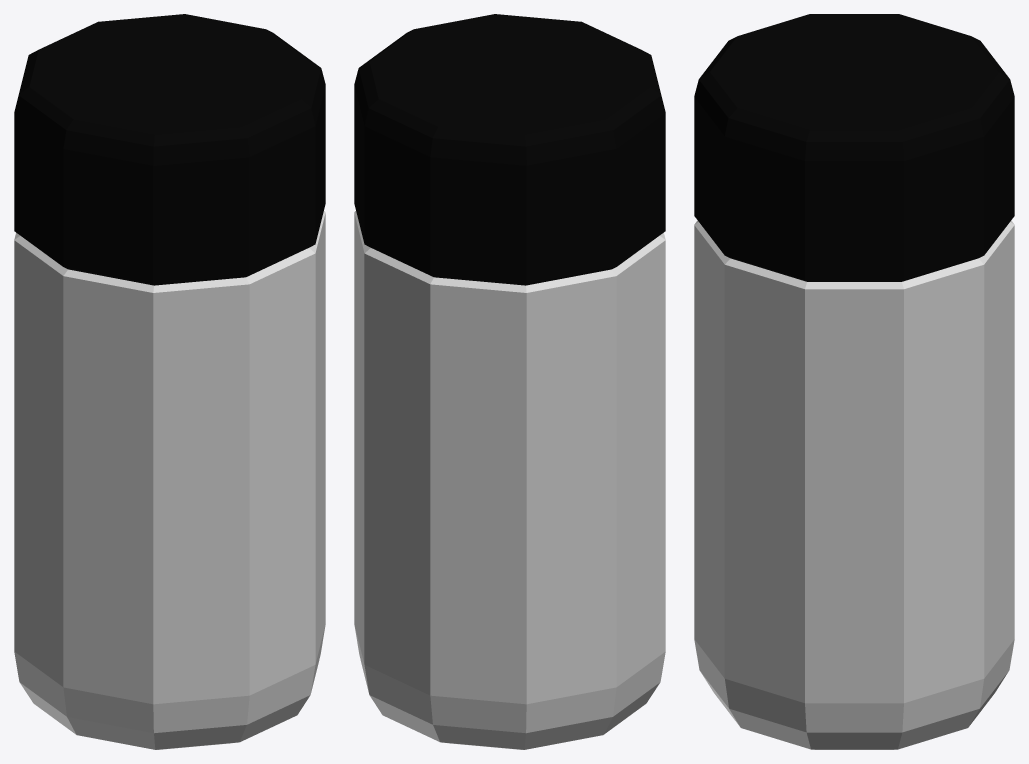
The model's file is R_Salt.fbx.
3 views of the same model, side by side, from view 1: azimuth 30°, elevation 25°; view 2: azimuth 150°, elevation 25°; view 3: azimuth 270°, elevation 25° (orthographic).
Parts seen in each view (by area): view 1: R_Salt; view 2: R_Salt; view 3: R_Salt.
Boxes of the visible parts, <box> form: R_Salt: <box>14,14,325,749</box>; R_Salt: <box>354,14,665,749</box>; R_Salt: <box>694,14,1014,749</box>.
Size of the model in its own units: 29.1 by 30.6 by 66.27.
